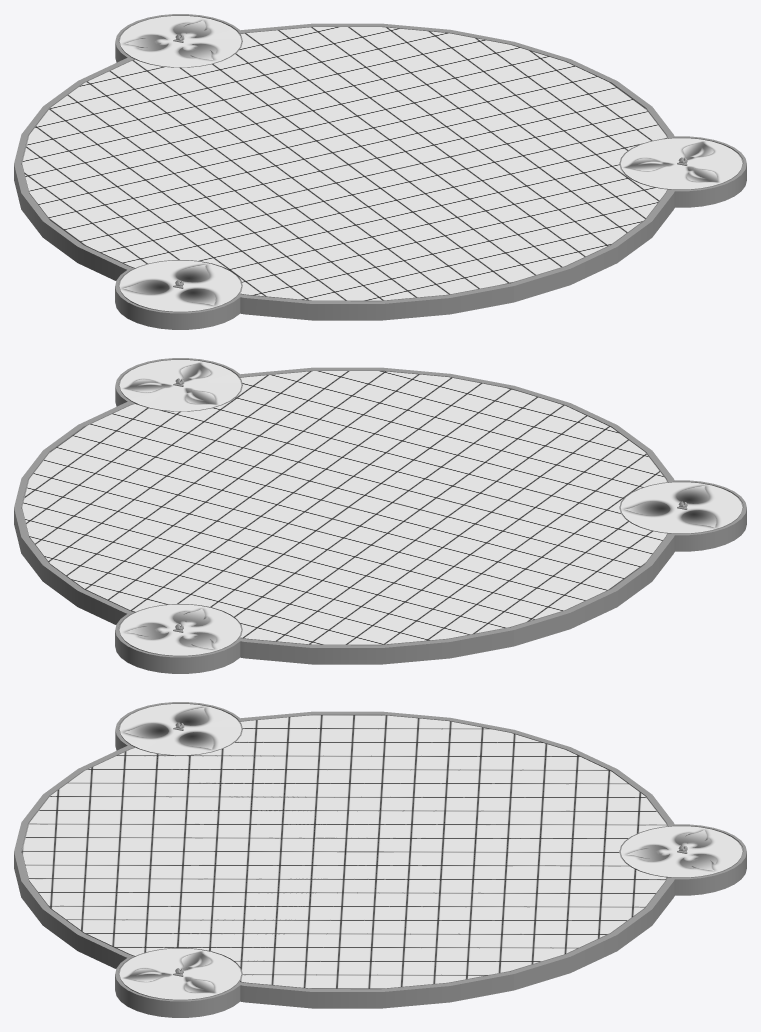
File: MainStage.fbx
3 views of the same model, one above another, from view 1: azimuth 30°, elevation 25°; view 2: azimuth 150°, elevation 25°; view 3: azimuth 270°, elevation 25° (orthographic).
Visible parts, largest first — view 1: Ground; view 2: Ground; view 3: Ground.
Part boxes in pixels (x1=…): Ground: x1=14, y1=14, x2=746, y2=329; Ground: x1=14, y1=358, x2=746, y2=673; Ground: x1=14, y1=702, x2=746, y2=1017.
Bounding box in the file's own units: 1073 × 37.53 × 1110.
Materials: 4 (2 with a texture image).
